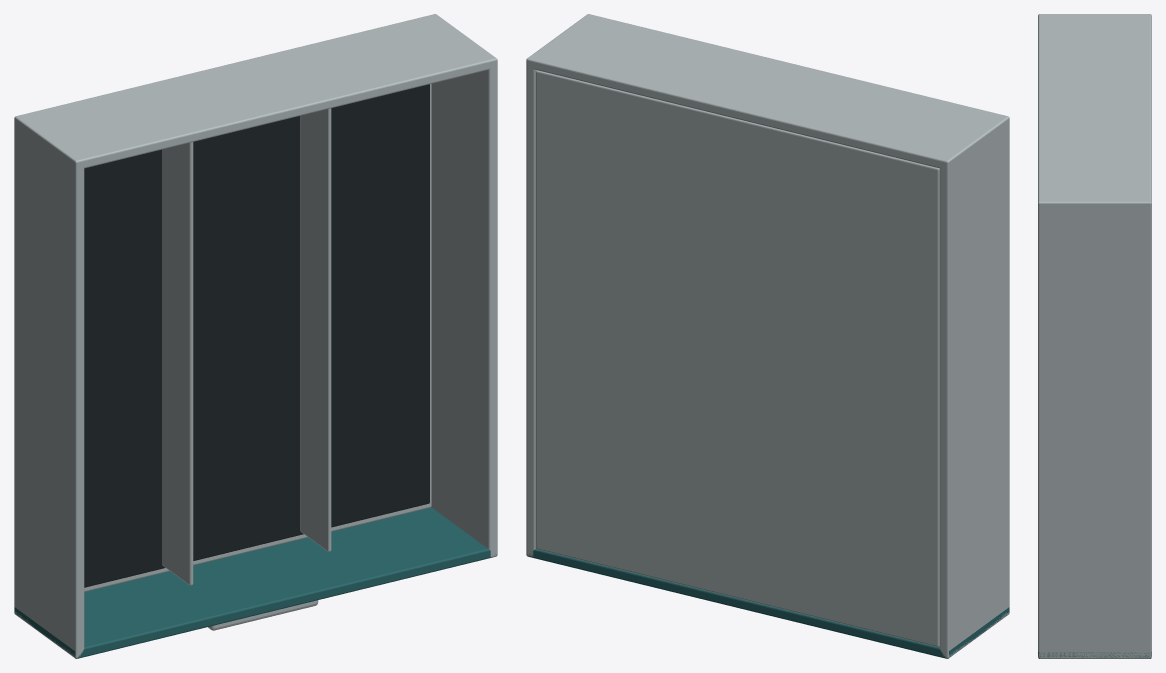
File: drawer.glb
3 renders of one model, left to right at view 1: azimuth 30°, elevation 25°; view 2: azimuth 150°, elevation 25°; view 3: azimuth 270°, elevation 25°, orthographic. The views are drawn at different scales.
Visible parts, largest first — view 1: Drawer mat, Drawer side, Drawer side.001, Drawer back, Drawer face, Tray divider, Tray divider.001, Drawer floor; view 2: Drawer floor, Drawer side, Drawer back, Drawer side.001, Drawer face; view 3: Drawer side.001, Drawer back, Drawer side, Drawer face.
Boxes of the visible parts, x1,y1,x2,y2 form: Drawer mat: (84,84,429,587); Drawer side: (14,115,84,658); Drawer side.001: (429,14,497,557); Drawer back: (14,14,497,169); Drawer face: (14,507,496,658); Tray divider: (162,142,193,585); Tray divider.001: (300,108,331,551); Drawer floor: (84,84,431,591); Drawer floor: (535,70,939,646); Drawer side: (939,115,1009,658); Drawer back: (526,14,1009,168); Drawer side.001: (526,14,594,557); Drawer face: (527,549,1009,658); Drawer side.001: (1038,199,1151,658); Drawer back: (1038,14,1151,209); Drawer side: (1038,14,1151,17); Drawer face: (1038,652,1151,658).
Size of the model in its own units: 0.55 by 0.653 by 0.14.
